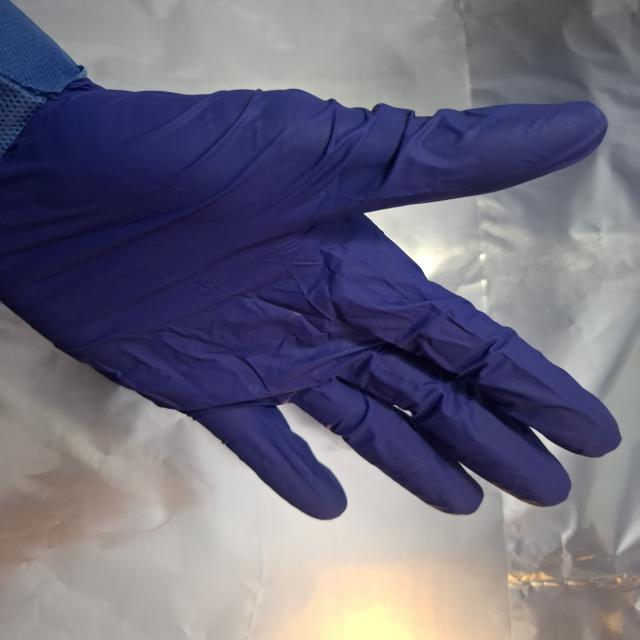glove_on: (0, 79, 627, 523)
